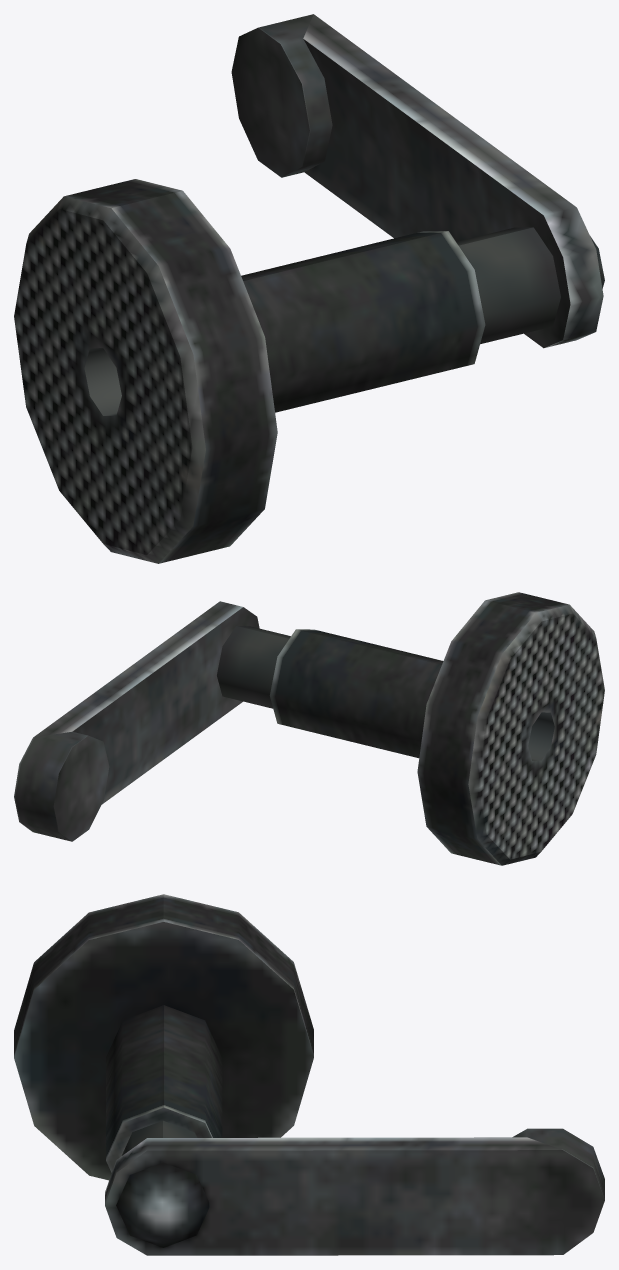
File: mp40_mag_Catch.glb
The picture shows the model from 3 angles, top to bottom: view 1: azimuth 30°, elevation 25°; view 2: azimuth 150°, elevation 25°; view 3: azimuth 270°, elevation 25°; orthographic projection. The views are drawn at different scales.
Visible parts, largest first — view 1: Magazine_Catch_Push_Pin_mesh_114, Magazine_Catch_mesh_115; view 2: Magazine_Catch_Push_Pin_mesh_114, Magazine_Catch_mesh_115; view 3: Magazine_Catch_Push_Pin_mesh_114, Magazine_Catch_mesh_115.
Part boxes in pixels (left/top/right/bottom): Magazine_Catch_Push_Pin_mesh_114: left=14, top=179, right=485, bottom=563; Magazine_Catch_mesh_115: left=231, top=14, right=604, bottom=348; Magazine_Catch_Push_Pin_mesh_114: left=269, top=592, right=604, bottom=865; Magazine_Catch_mesh_115: left=14, top=601, right=290, bottom=841; Magazine_Catch_Push_Pin_mesh_114: left=14, top=894, right=313, bottom=1180; Magazine_Catch_mesh_115: left=105, top=1120, right=604, bottom=1255.
Size of the model in its own units: 2.84 by 1.92 by 3.78.
1 material, 1 textured.
